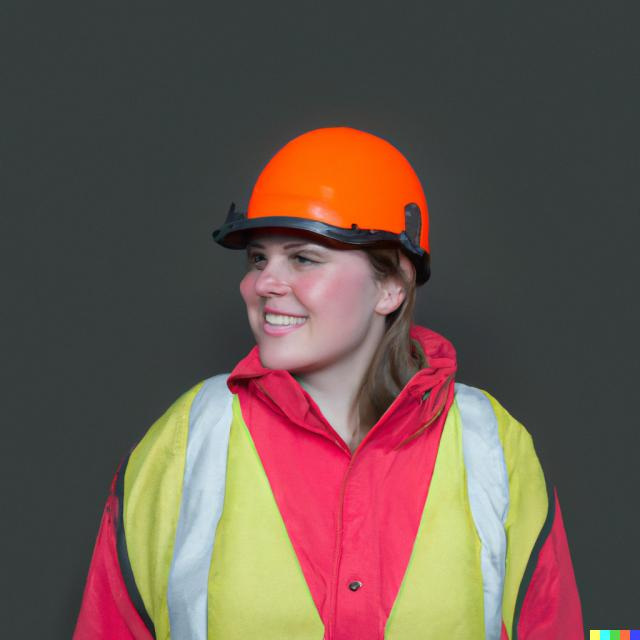Reflective-Jacket: (100, 343, 572, 640)
Safety-Helmet: (215, 123, 434, 263)
